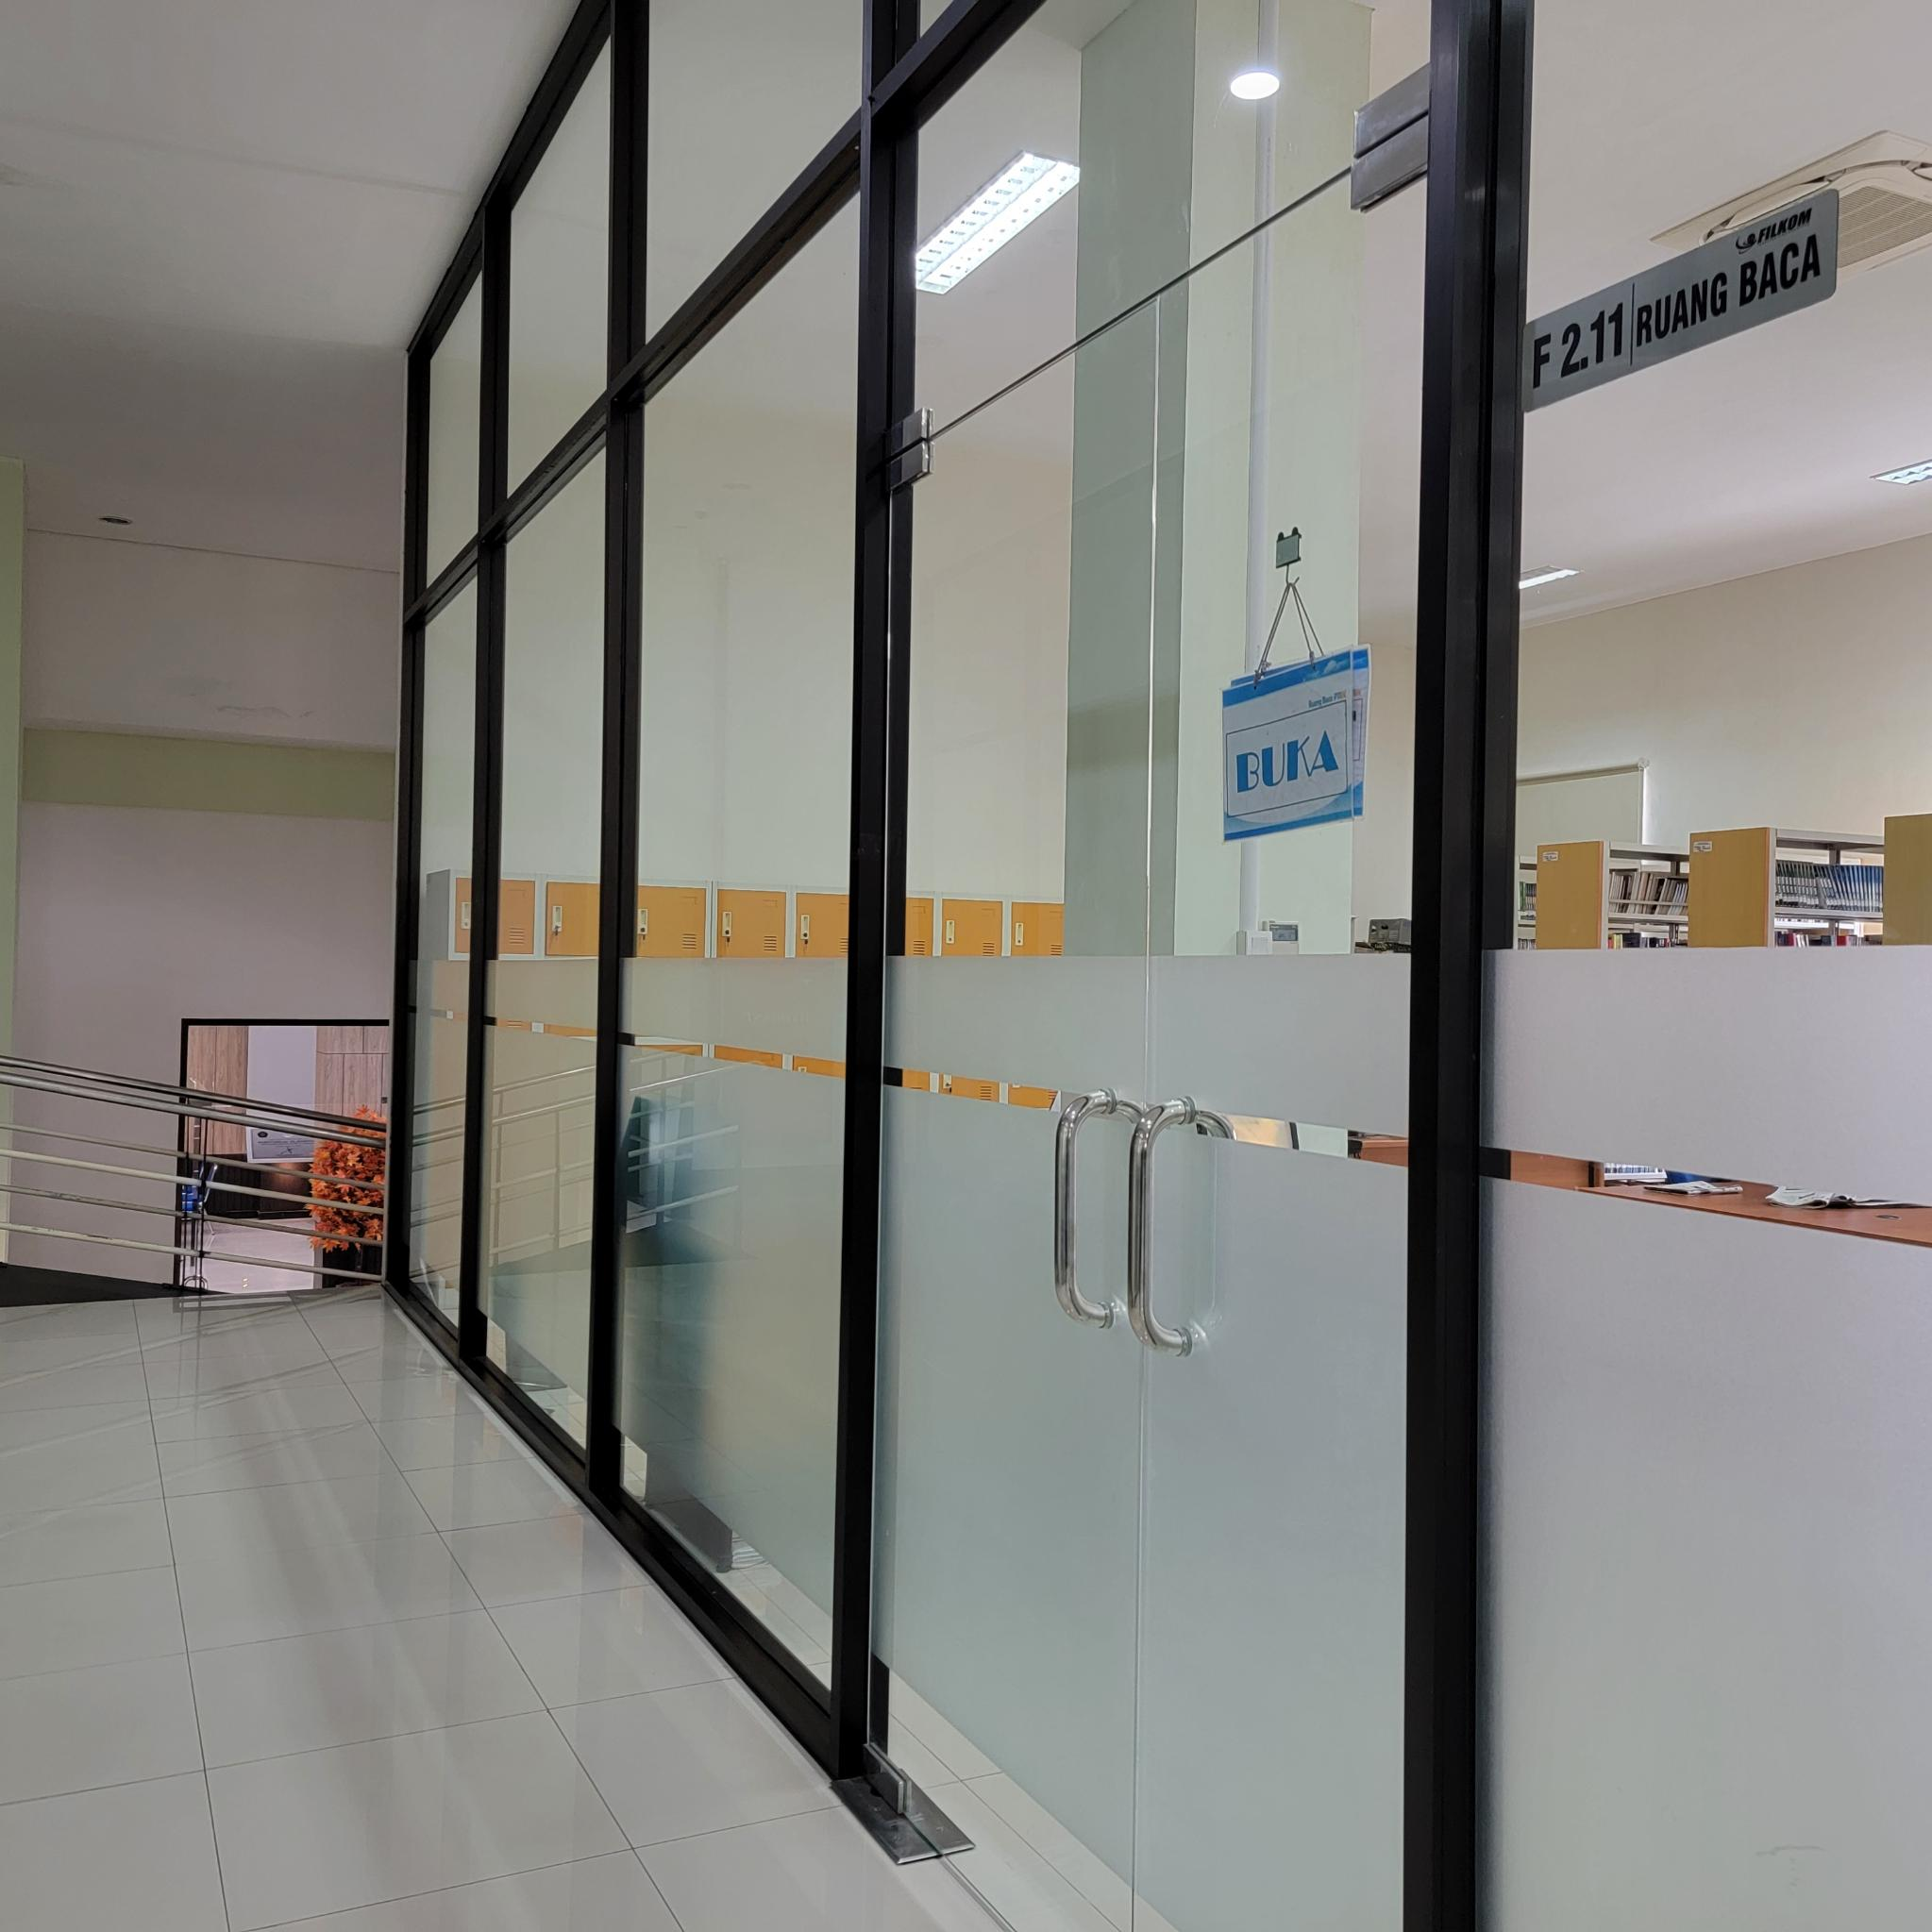plate: (1514, 191, 1840, 414)
